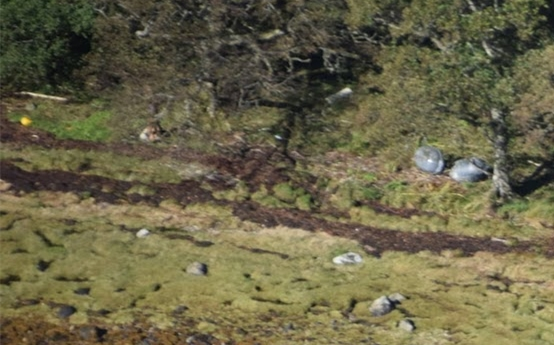tube: (11, 80, 71, 103)
white_in_green: (392, 121, 473, 196), (433, 134, 505, 204), (308, 66, 373, 122), (2, 101, 51, 143)
